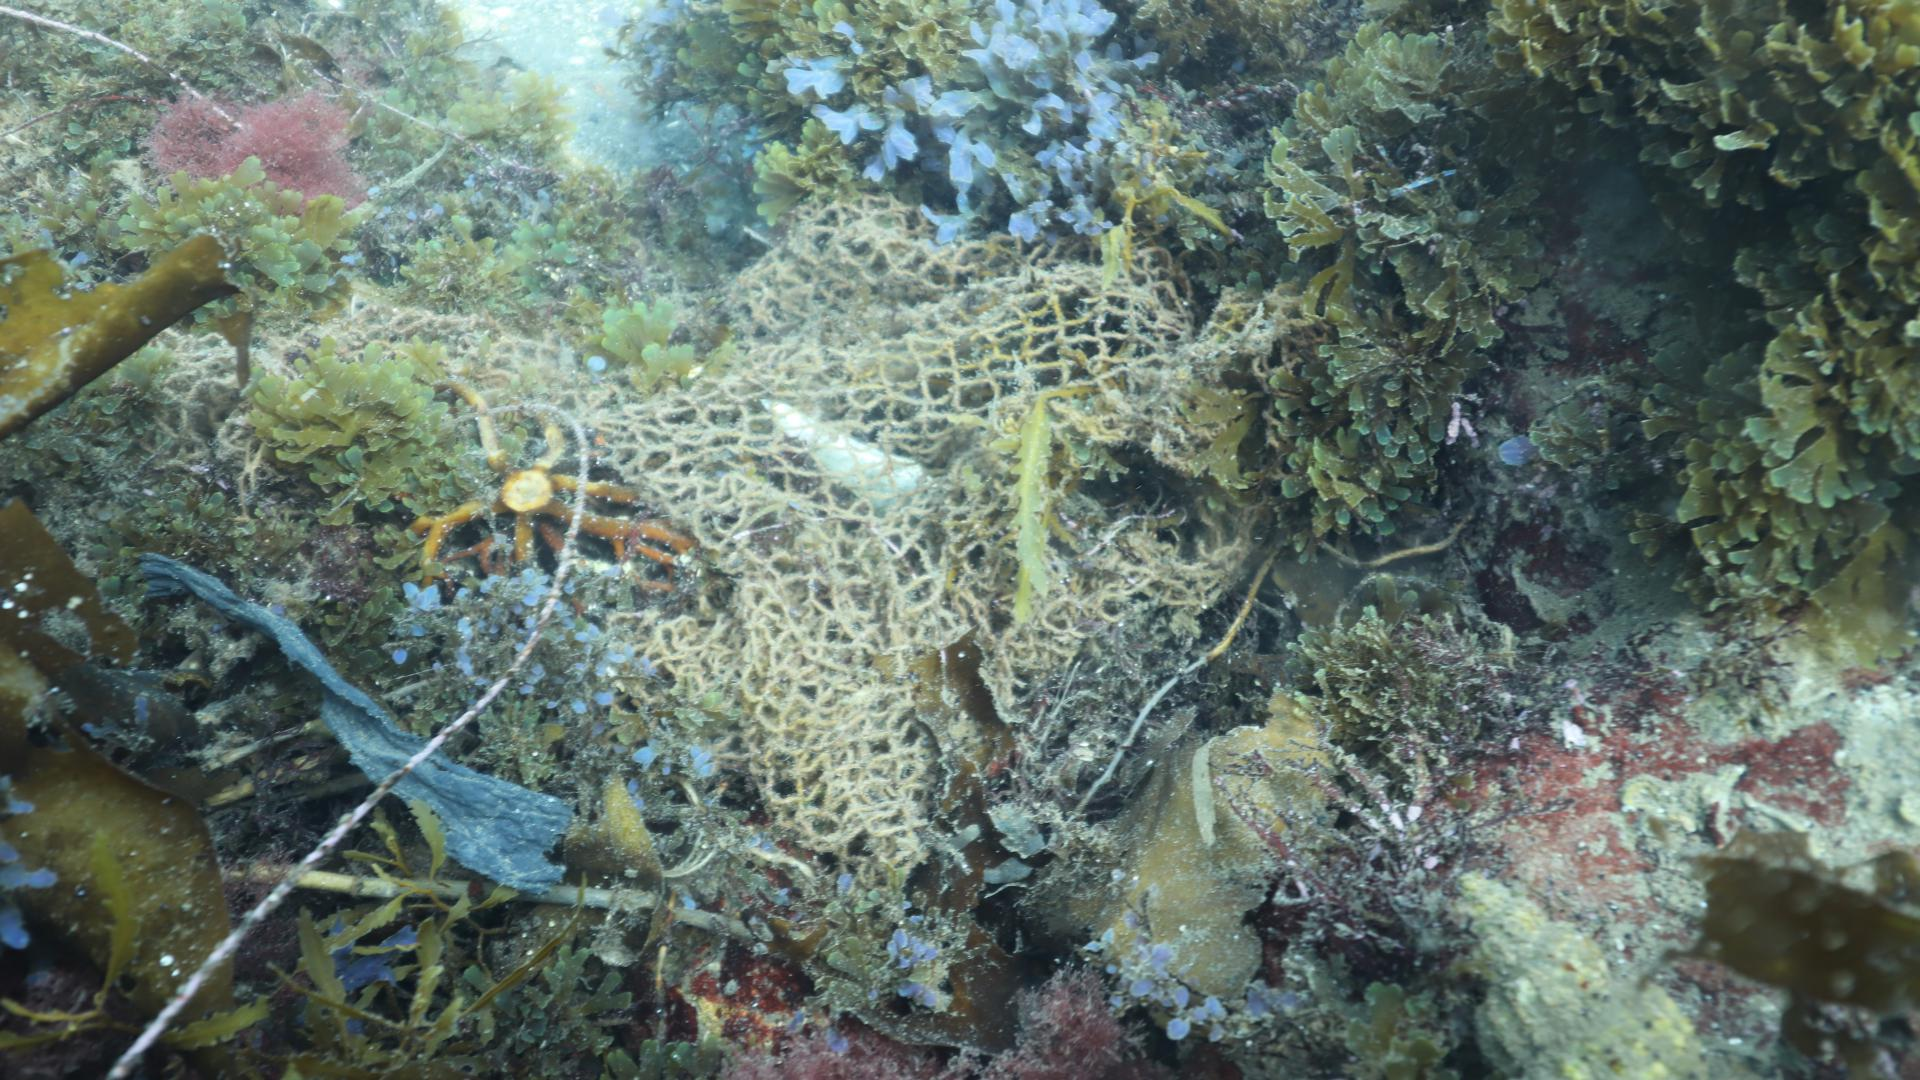fish net: (157, 190, 1331, 890)
